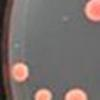orange: (11, 62, 29, 84), (60, 86, 88, 100), (33, 86, 55, 100)
pink: (82, 1, 100, 22)
